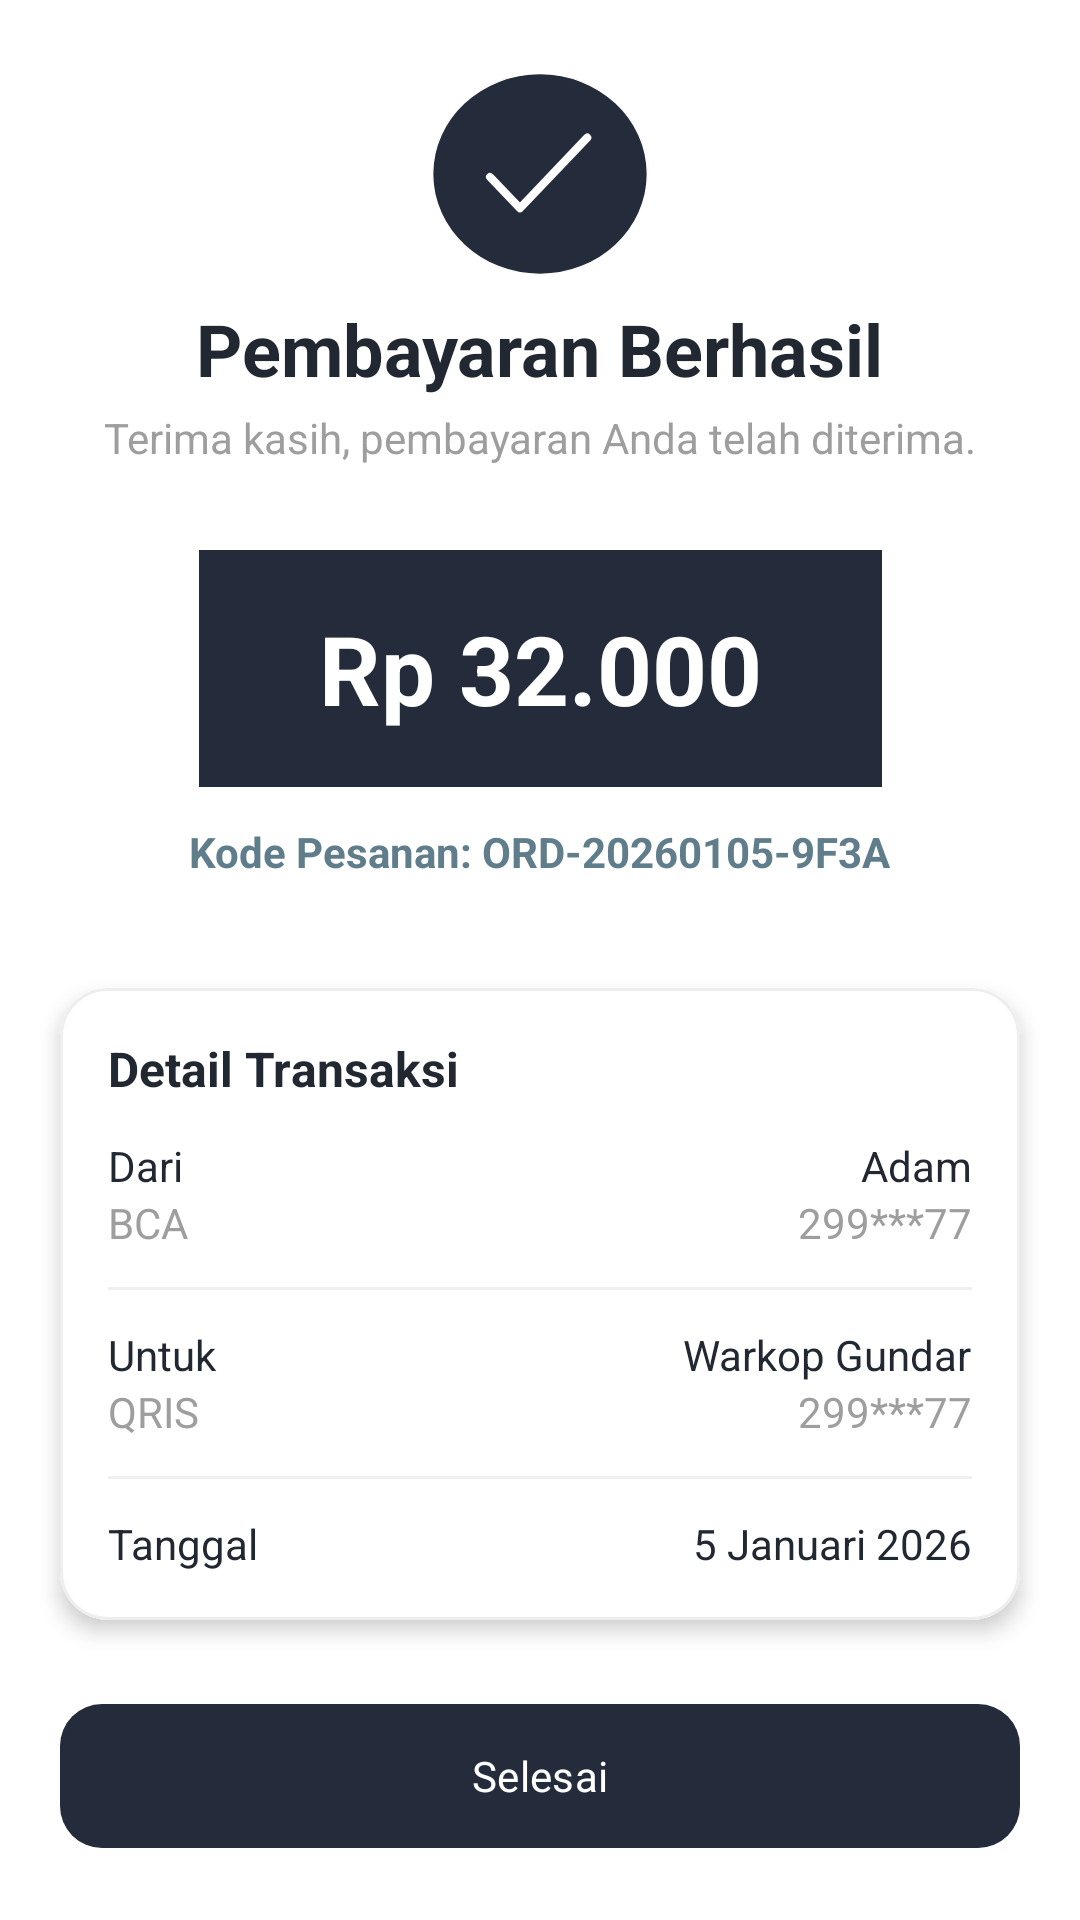

Named icons in this screenshot (1080*1920) and their centers, point (x, y):
check success: point (540, 174)
